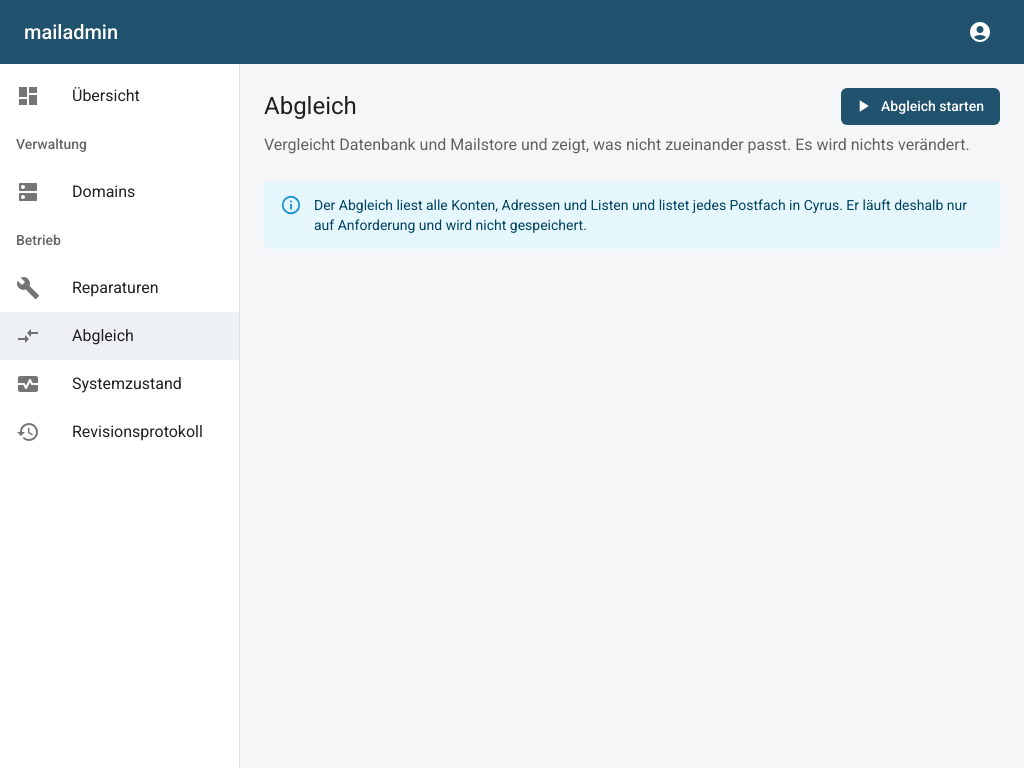
Scenario: the reconciliation › says so when nothing was found
The image size is (1024, 768).
What coordinates should you click on to do the following:
click the button "Abgleich starten"
I would click on:
 (920, 106)
Its box is [841,88,1000,124].
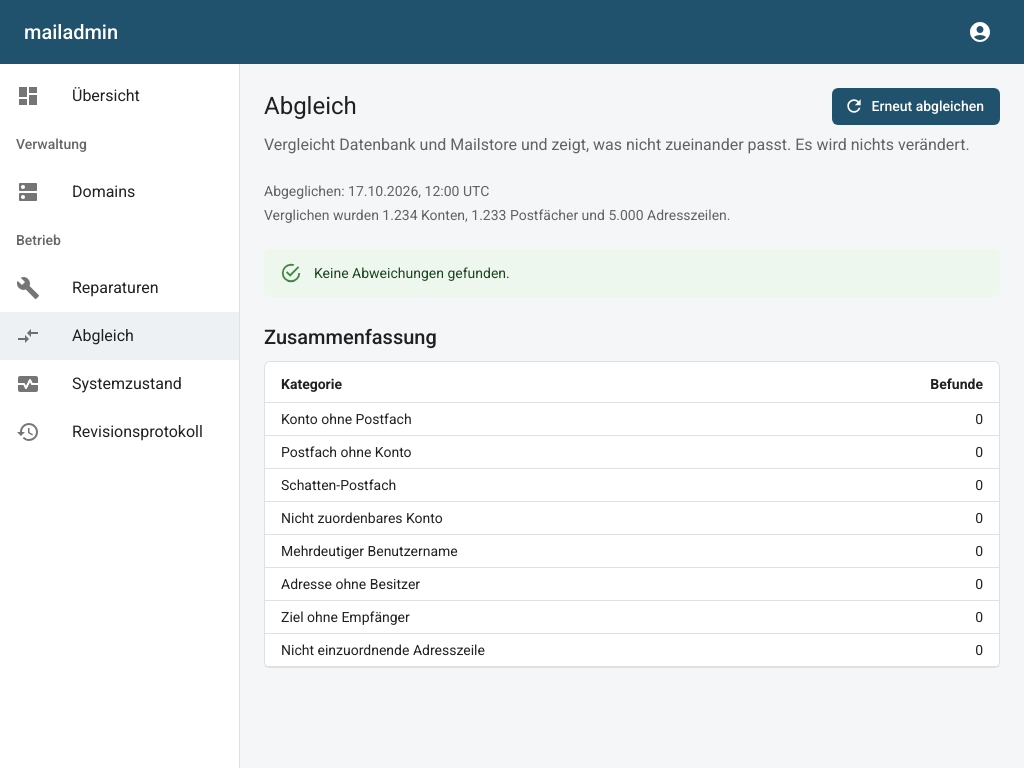
Now the text "Keine Abweichungen gefunden." is shown, box [314,264,510,280]
